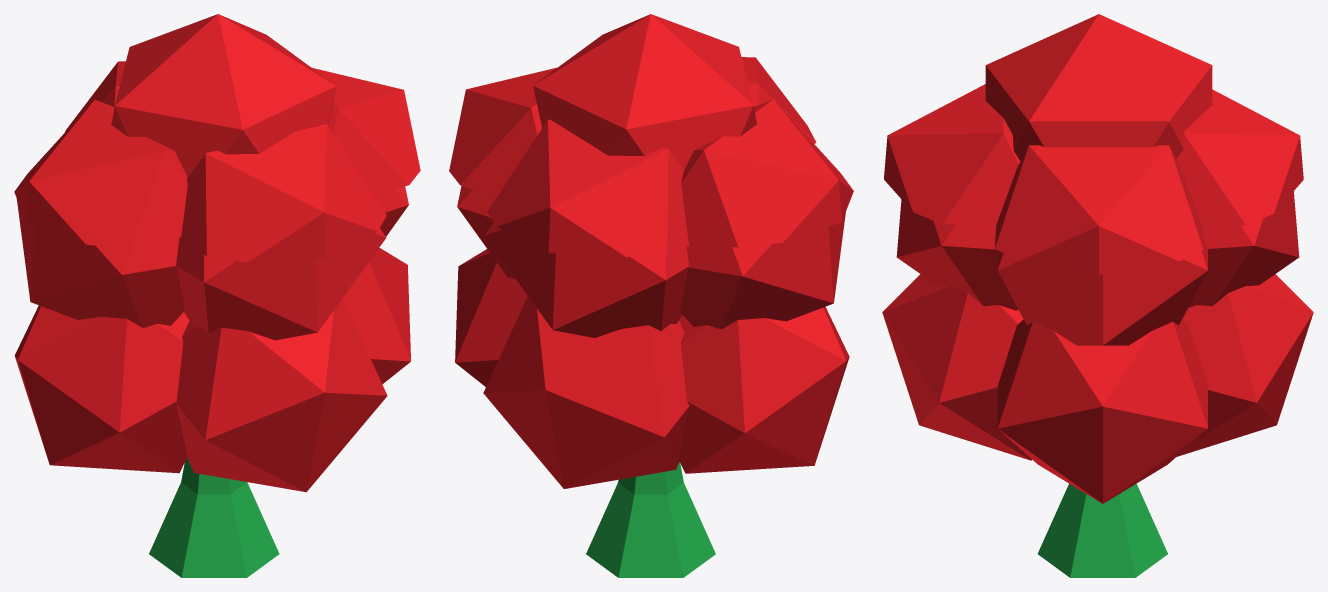
Rendered from SmallBush.obj.
3 renders of one model, left to right at view 1: azimuth 30°, elevation 25°; view 2: azimuth 150°, elevation 25°; view 3: azimuth 270°, elevation 25°, orthographic.
Parts seen in each view (by area): view 1: Cylinder_Cylinder.003; view 2: Cylinder_Cylinder.003; view 3: Cylinder_Cylinder.003.
Boxes of the visible parts, bbox=[...] form: Cylinder_Cylinder.003: bbox=[14, 14, 420, 577]; Cylinder_Cylinder.003: bbox=[449, 14, 853, 577]; Cylinder_Cylinder.003: bbox=[882, 14, 1313, 577].
Size of the model in its own units: 0.4352 by 0.5769 by 0.417.
